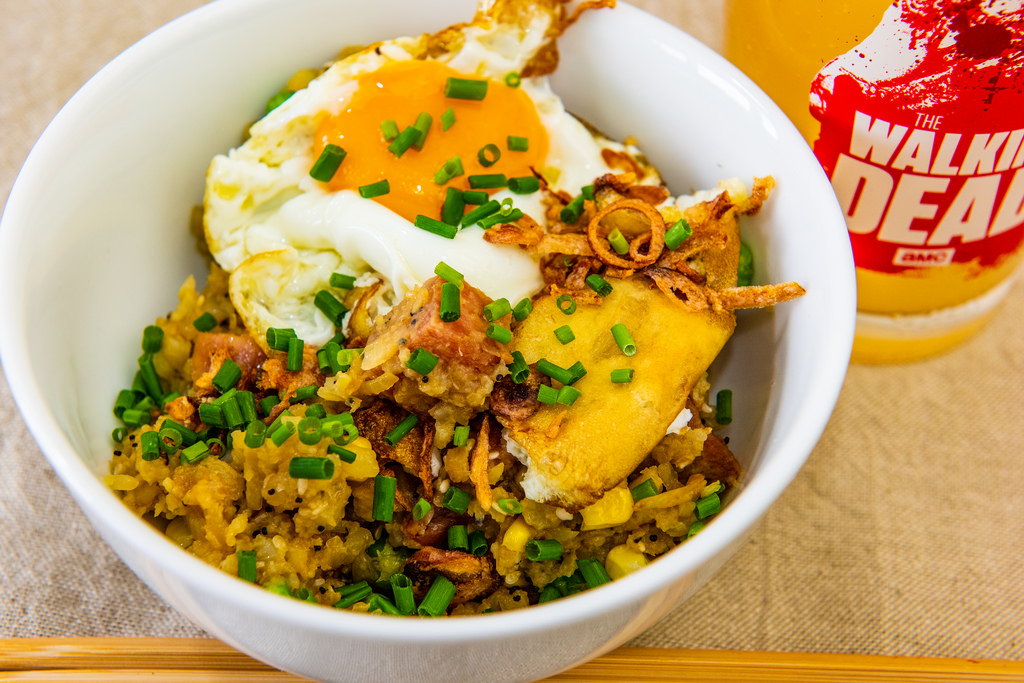fried egg: (273, 43, 552, 292)
